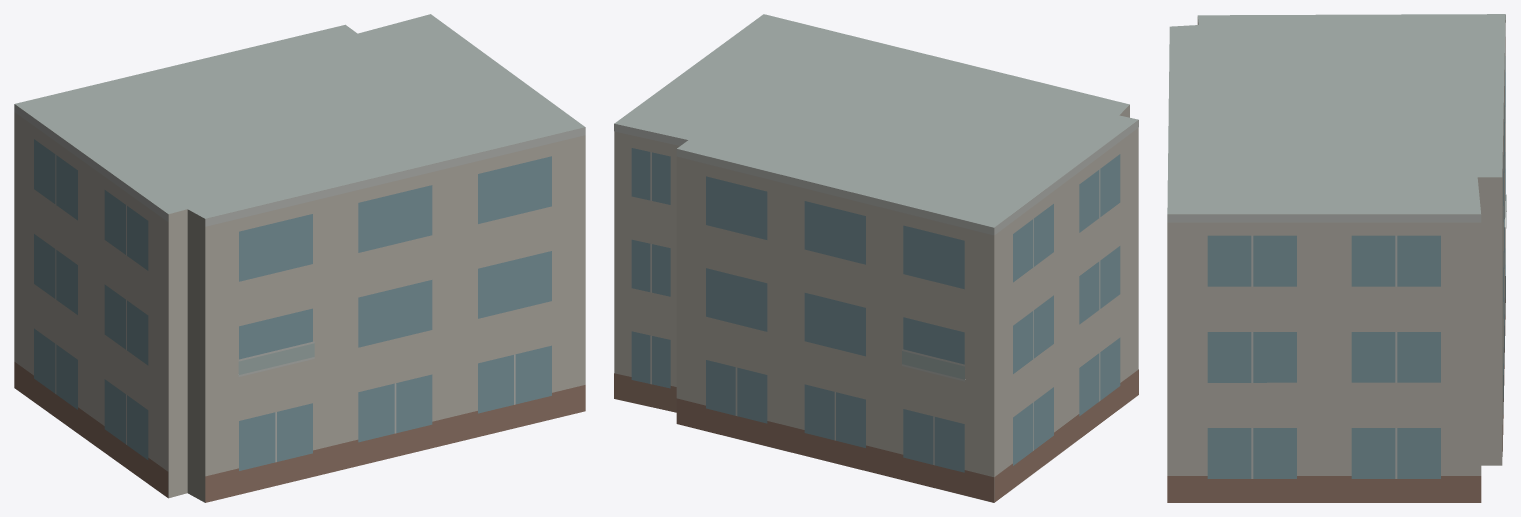
Rendered from survey-upis-32914719.glb.
3 views of the same model, side by side, from view 1: azimuth 30°, elevation 25°; view 2: azimuth 150°, elevation 25°; view 3: azimuth 270°, elevation 25° (orthographic). The views are drawn at different scales.
Visible parts, largest first — view 1: survey-upis-32914719.tmp; view 2: survey-upis-32914719.tmp; view 3: survey-upis-32914719.tmp.
Part boxes in pixels (x1=…): survey-upis-32914719.tmp: x1=14, y1=14, x2=585, y2=502; survey-upis-32914719.tmp: x1=614, y1=14, x2=1138, y2=502; survey-upis-32914719.tmp: x1=1167, y1=14, x2=1506, y2=502.
Size of the model in its own units: 12.83 by 8.6 by 9.18.
